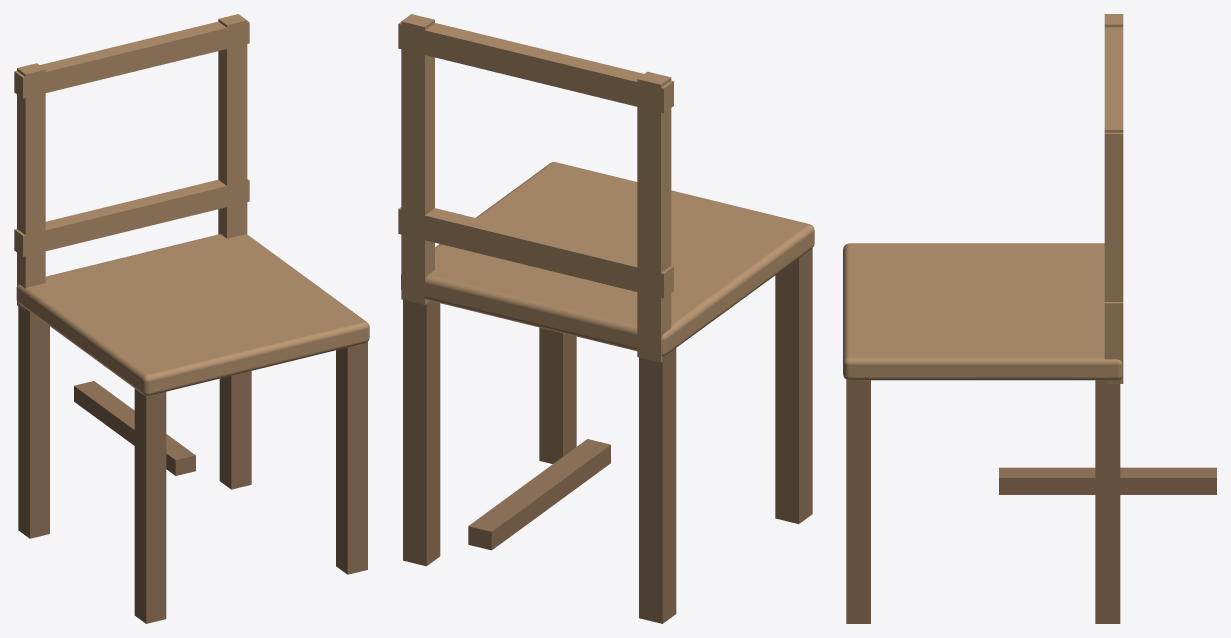
File: chair_dining.glb
3 views of the same model, side by side, from view 1: azimuth 30°, elevation 25°; view 2: azimuth 150°, elevation 25°; view 3: azimuth 270°, elevation 25° (orthographic). The views are drawn at different scales.
Visible parts, largest first — view 1: seat, leg_fl, leg_fr, leg_bl, backrest_top, backrest_bot, back_post_l, back_post_r, leg_br, stretcher; view 2: seat, leg_bl, leg_br, leg_fl, backrest_top, backrest_bot, back_post_r, back_post_l, stretcher, leg_fr; view 3: seat, leg_br, leg_fr, stretcher, back_post_r, backrest_top.
Boxes of the visible parts, x1,y1,x2,y2 form: seat: (16,234,369,395); leg_fl: (134,388,166,623); leg_fr: (336,342,367,574); leg_bl: (18,306,49,538); backrest_top: (14,21,249,98); backrest_bot: (14,179,249,256); back_post_l: (17,63,45,311); back_post_r: (218,14,247,238); leg_br: (219,371,251,489); stretcher: (74,381,195,475); seat: (401,162,814,356); leg_bl: (639,348,676,623); leg_br: (403,300,440,566); leg_fl: (775,248,812,523); backrest_top: (398,22,673,113); backrest_bot: (398,207,673,298); back_post_r: (401,14,434,304); back_post_l: (637,71,671,362); stretcher: (468,439,610,550); leg_fr: (539,327,576,463); seat: (843,243,1122,380); leg_br: (1095,379,1120,623); leg_fr: (846,379,870,623); stretcher: (999,467,1216,494); back_post_r: (1104,119,1123,383); backrest_top: (1104,27,1123,156).
Bounding box in the file's own units: 0.45 × 0.875 × 0.6.
